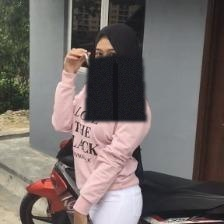Cadar_Niqab: (84, 21, 146, 121)
